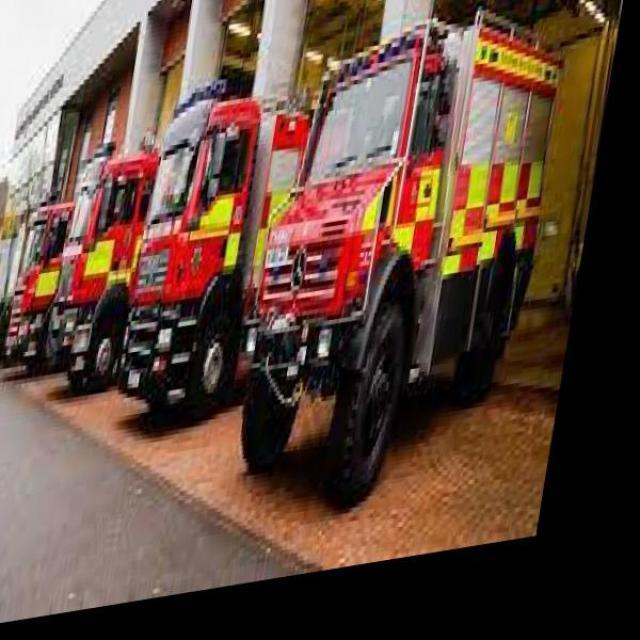emergency: (237, 7, 563, 507), (141, 113, 245, 414), (2, 200, 114, 372), (58, 158, 142, 374)
